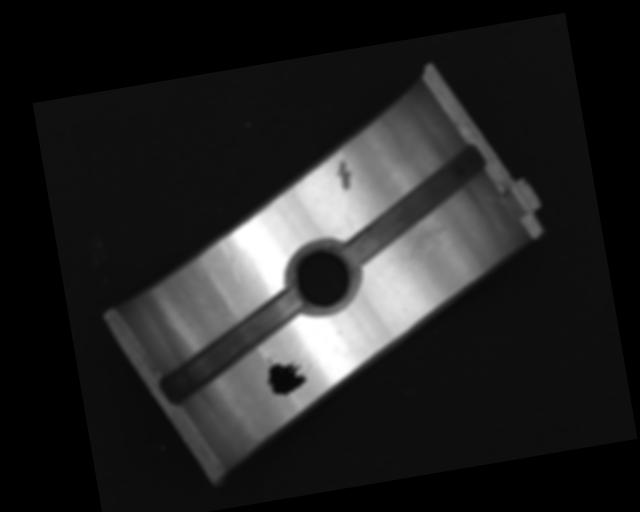blot: (260, 350, 315, 399)
bruise: (333, 158, 355, 194)
gap: (332, 147, 494, 266), (151, 293, 314, 407)
hole: (281, 237, 366, 321)
nick: (217, 237, 245, 284)
scratch: (389, 220, 461, 273)
